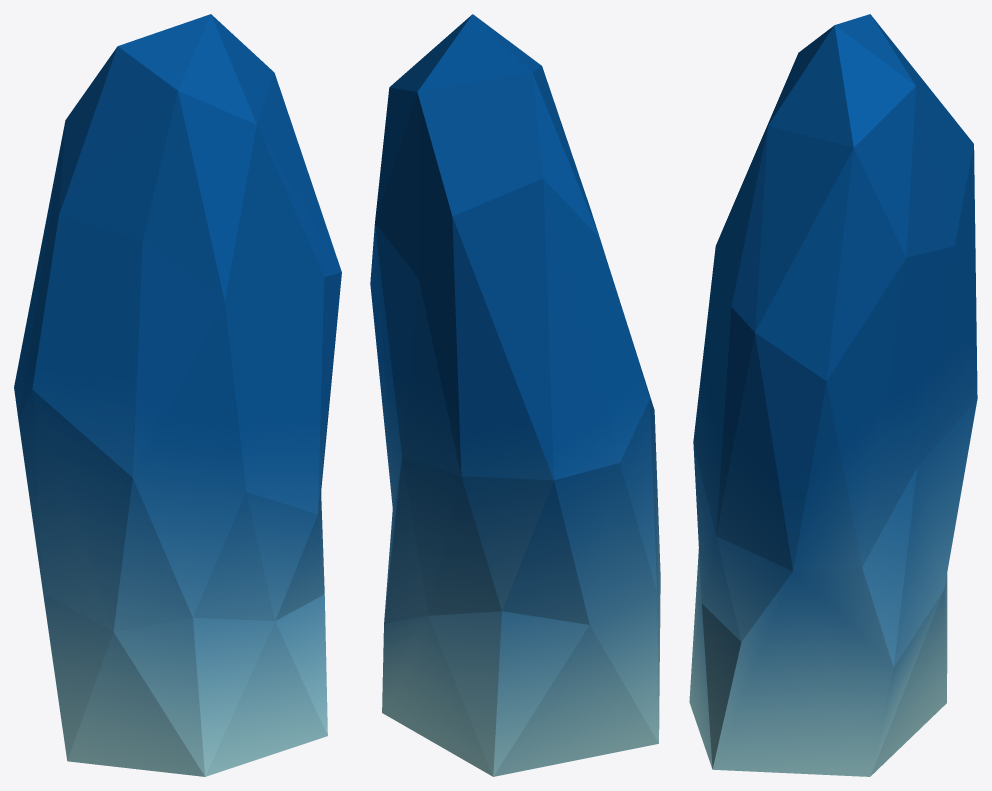
Rendered from IceStone03.fbx.
The picture shows the model from 3 angles, left to right: view 1: azimuth 30°, elevation 25°; view 2: azimuth 150°, elevation 25°; view 3: azimuth 270°, elevation 25°; orthographic projection. The views are drawn at different scales.
Parts seen in each view (by area): view 1: IceStone03; view 2: IceStone03; view 3: IceStone03.
Boxes of the visible parts, bbox=[...] form: IceStone03: bbox=[14, 14, 341, 776]; IceStone03: bbox=[370, 14, 660, 776]; IceStone03: bbox=[689, 14, 977, 776].
Bounding box in the file's own units: 2.6 × 6.12 × 2.23.
